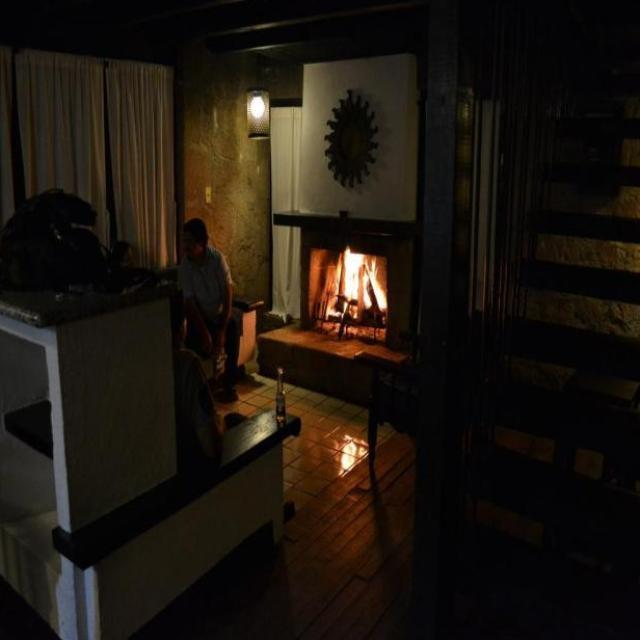smoke: (332, 246, 394, 322)
